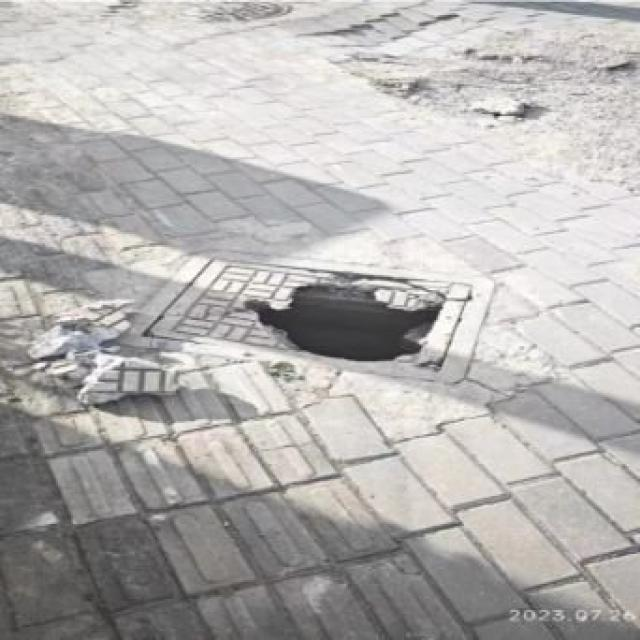manhole: (129, 234, 489, 387)
